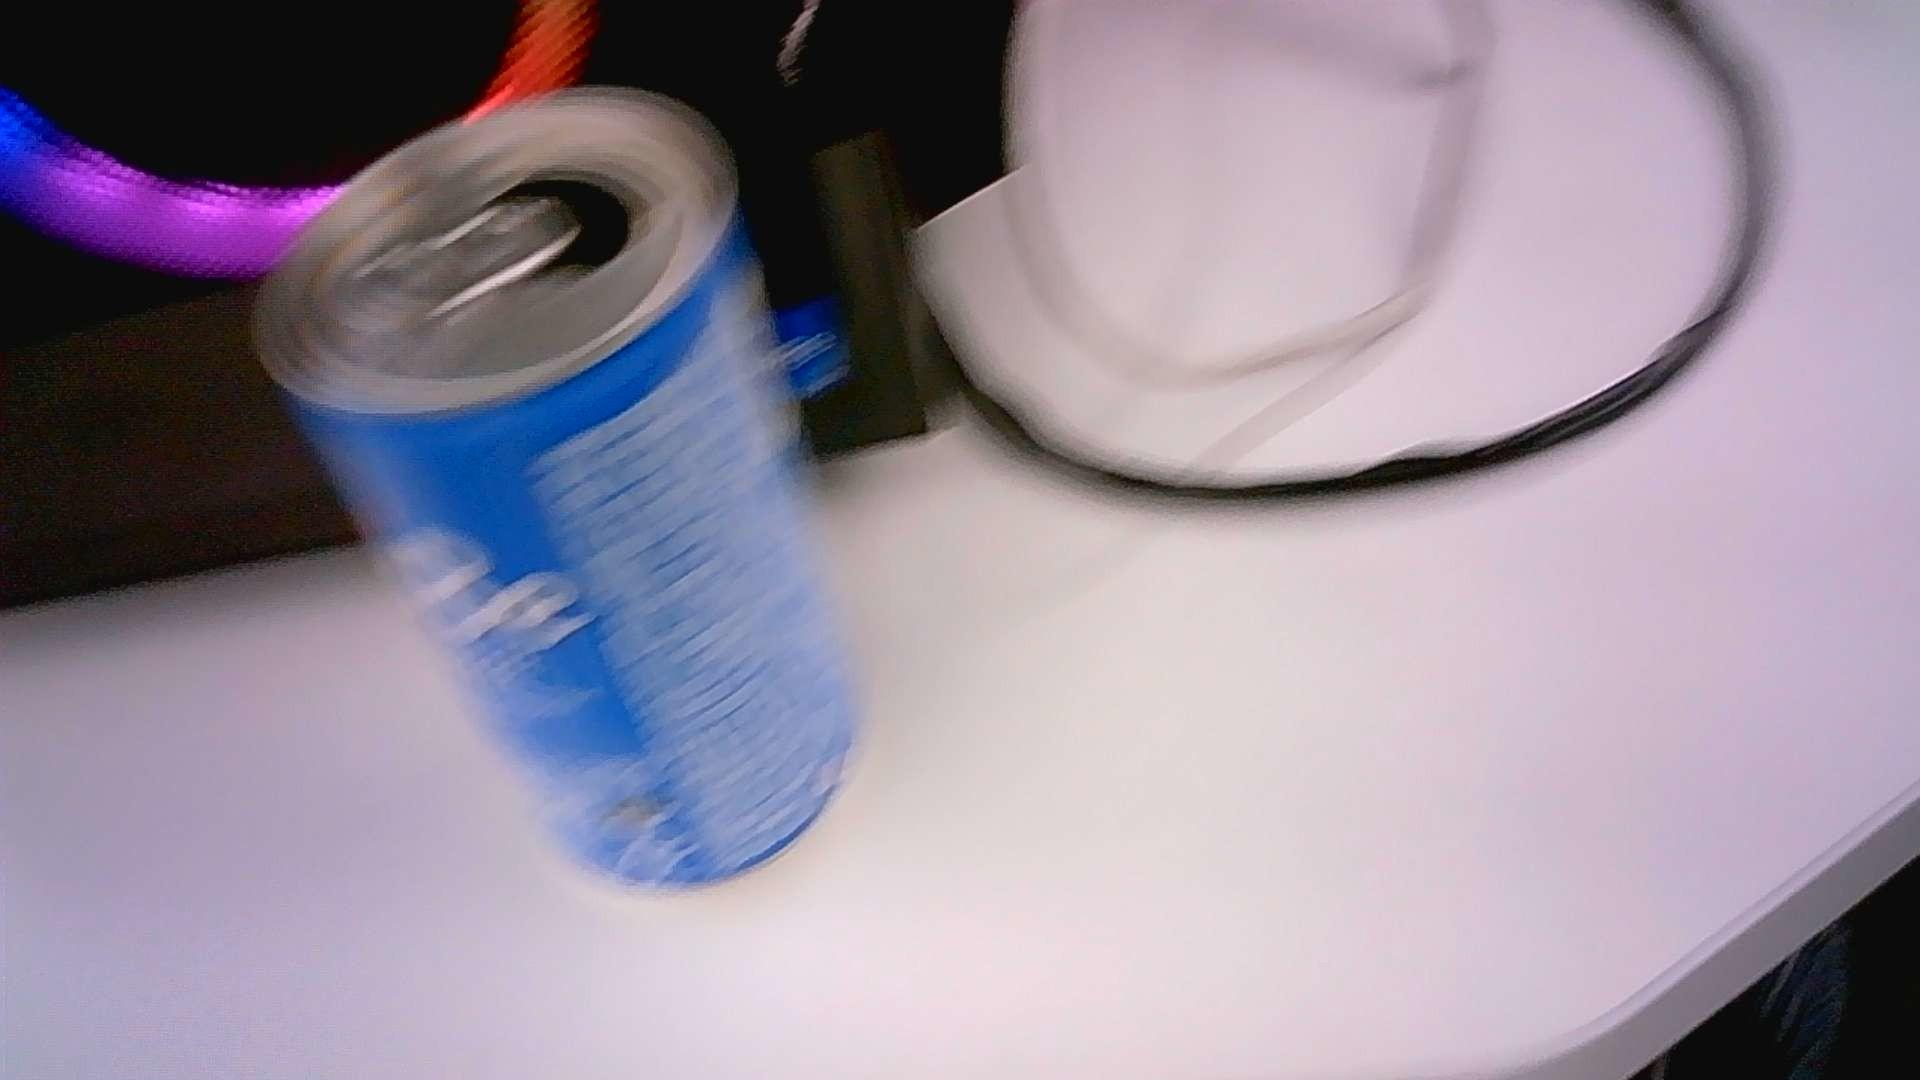letsbe: (257, 87, 872, 890)
